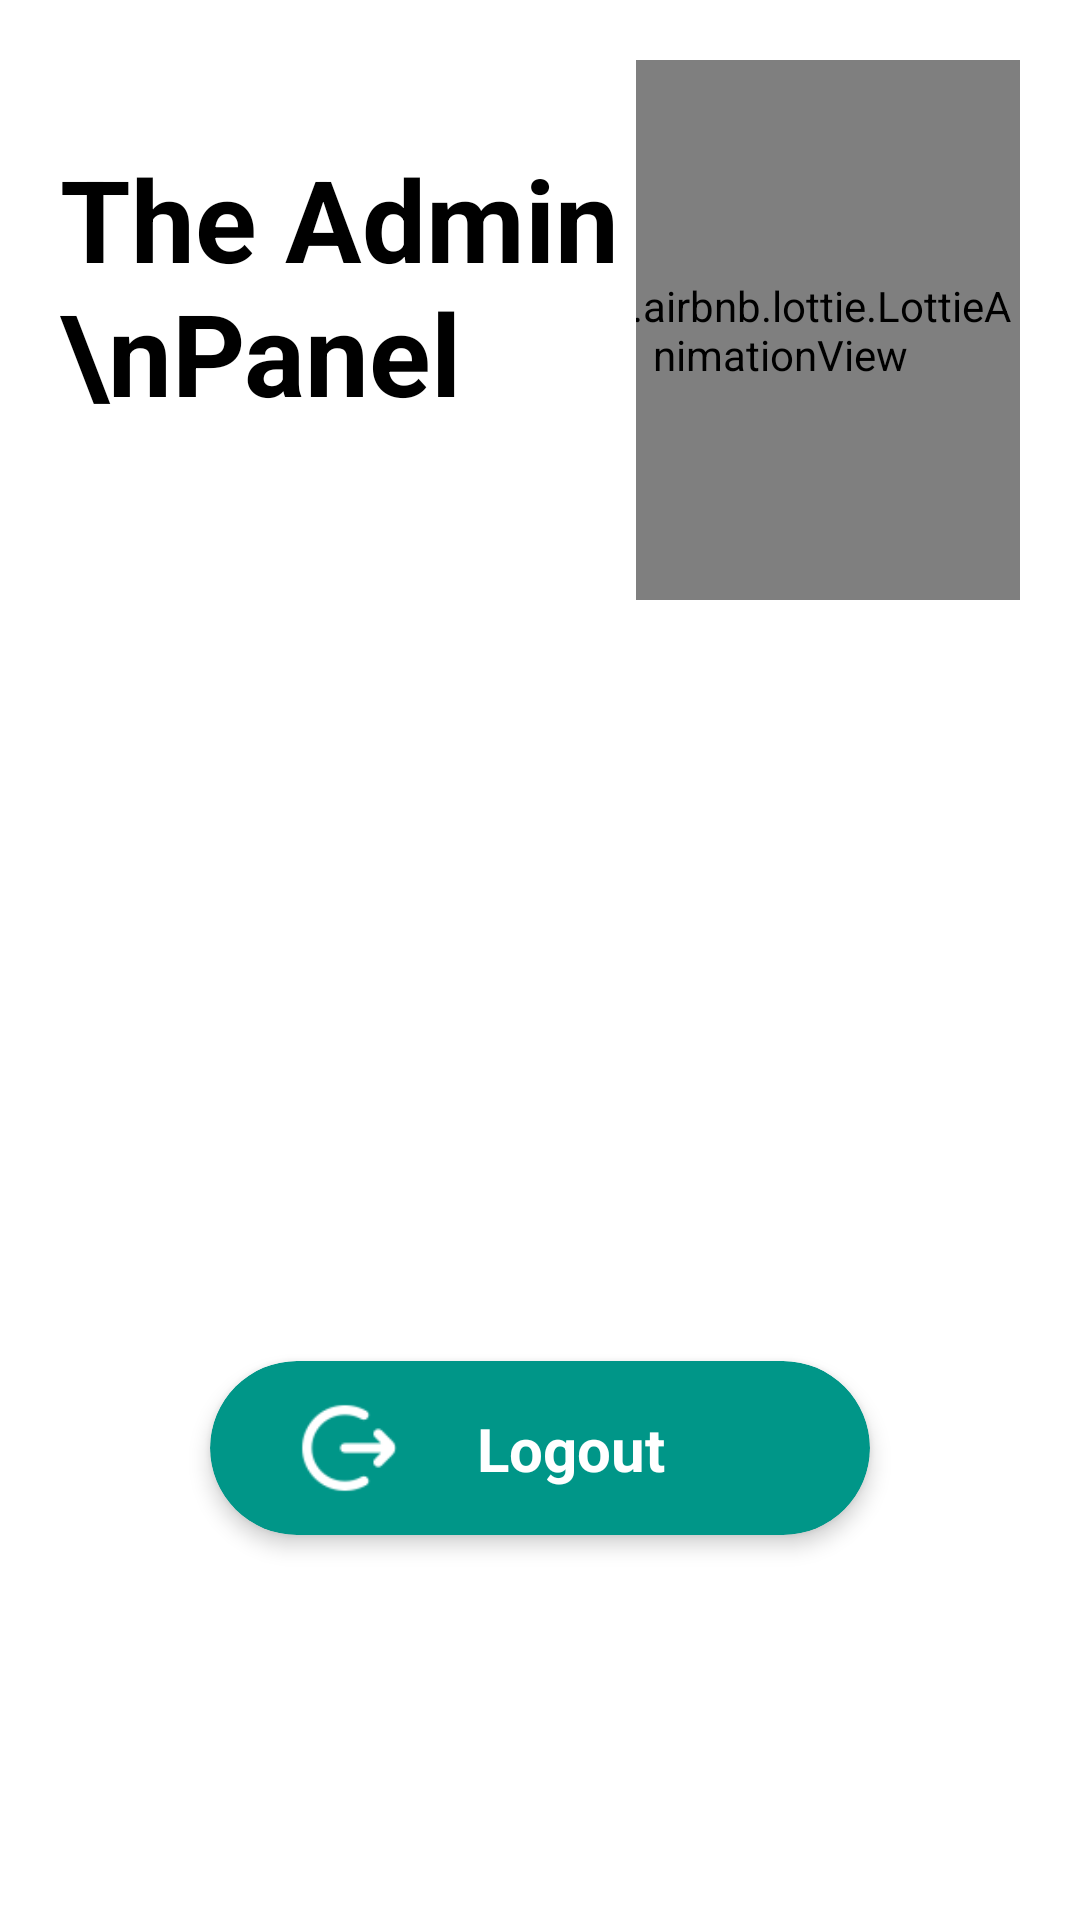

Icons on this 1080px×1920px Android screen, each with the point to tap as (x=x, y=y):
out: (x=349, y=1448)
